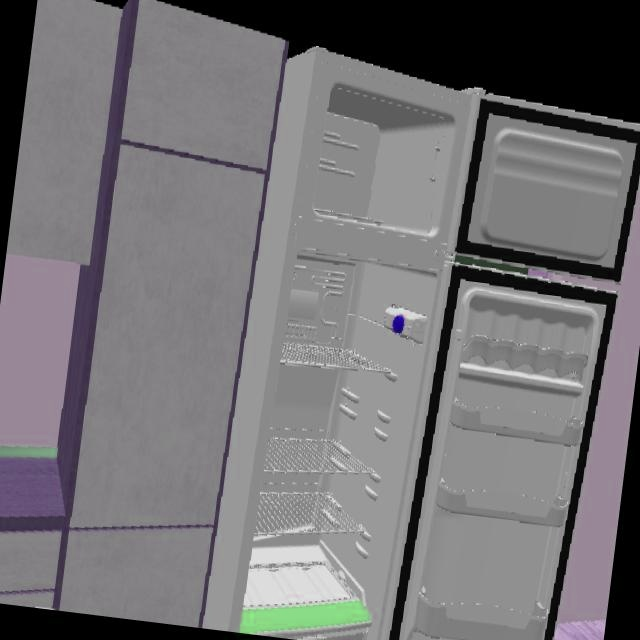cabinet: (0, 0, 284, 624)
fridge: (205, 48, 640, 640)
